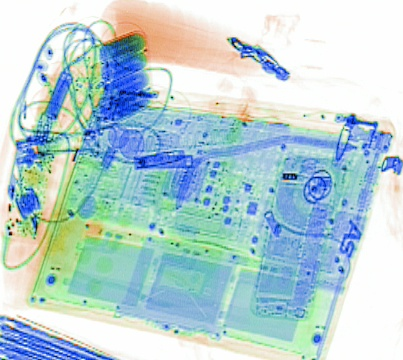powerbank: (89, 26, 155, 124)
